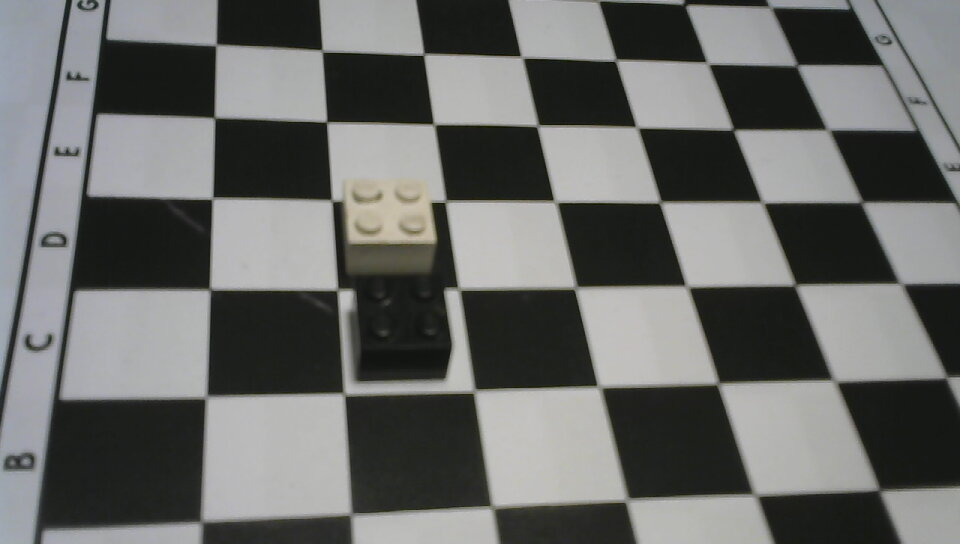wp: (322, 168, 450, 281)
